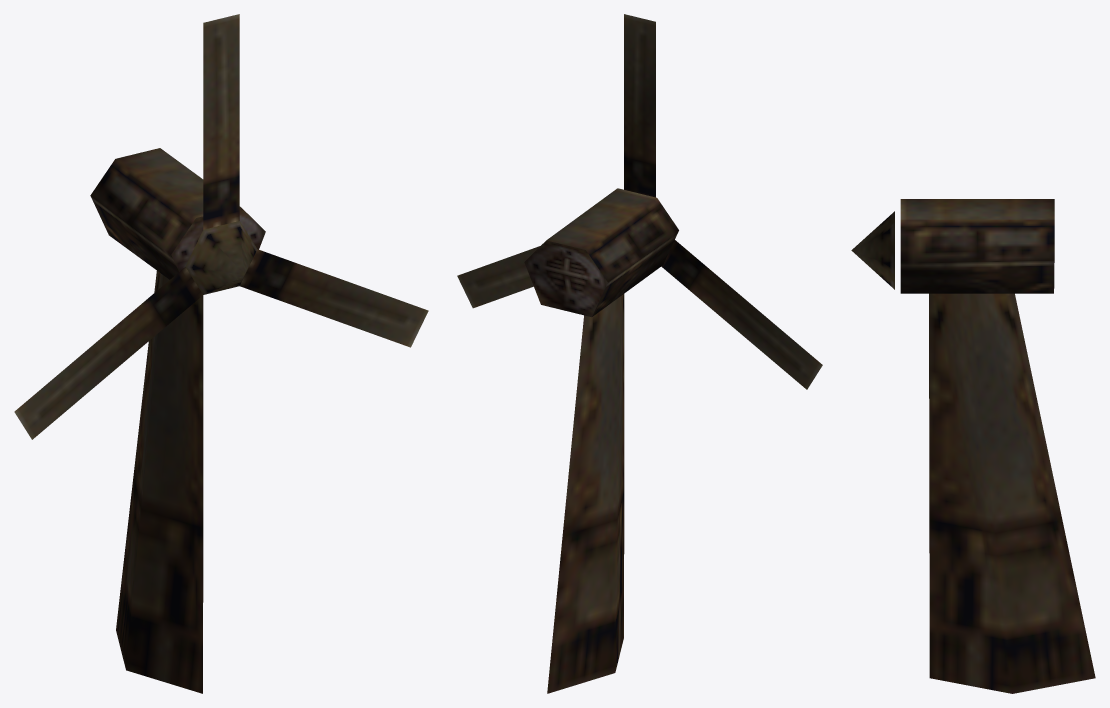
File: prop-061.glb
The picture shows the model from 3 angles, left to right: view 1: azimuth 30°, elevation 25°; view 2: azimuth 150°, elevation 25°; view 3: azimuth 270°, elevation 25°; orthographic projection. The views are drawn at different scales.
Visible parts, largest first — view 1: root; view 2: root; view 3: root.
Part boxes in pixels (<box>): root: <box>14,14,428,693</box>; root: <box>457,14,822,693</box>; root: <box>851,199,1095,693</box>.
Size of the model in its own units: 2.08 by 3.3 by 1.11.
Materials: 1 (1 with a texture image).
